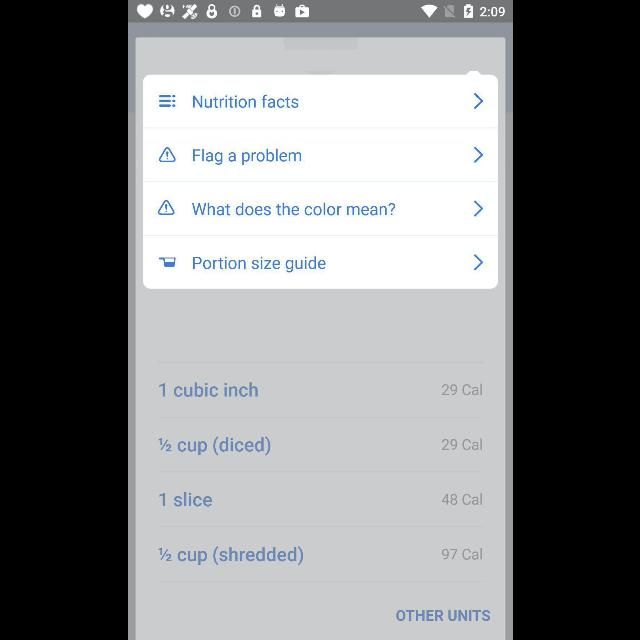icon: (158, 200, 175, 216), (158, 148, 176, 162), (158, 94, 176, 108), (473, 253, 483, 270), (473, 147, 483, 163), (473, 201, 483, 217), (473, 93, 482, 109)
image: (158, 257, 176, 267)
panel: (142, 74, 498, 290)
text: (158, 546, 302, 566), (191, 203, 395, 217), (192, 256, 324, 274), (158, 436, 270, 456), (192, 148, 300, 166), (192, 94, 298, 108), (159, 383, 257, 397), (396, 609, 490, 621), (158, 492, 212, 506), (441, 493, 482, 505), (441, 384, 481, 396), (441, 439, 481, 451), (441, 548, 481, 560)
uppertaskbar: (128, 1, 512, 23)
